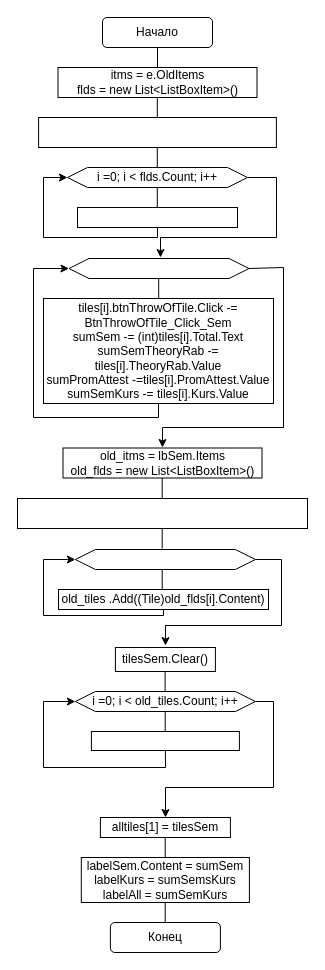
This 325x970 diagram has some shape labels left out. Here are the shapes that lost their labels. From the top down, the centre of each, then its label:
At pixel 157 132: "flds.AddRange(itms.OfType<ListBoxItem>() tiles = new List<Tile>()".
At pixel 157 217: "tiles.Add((Tile)flds[i].Content)".
At pixel 158 268: "i =0; i < tiles.Count; i++".
At pixel 162 513: "old_flds.AddRange(old_itms.OfType<ListBoxItem>() old_tiles = new List<Tile>()".
At pixel 164 559: "i =0; i < old_flds .Count; i++".
At pixel 164 740: "tilesSem.Add(new Tiles());".
